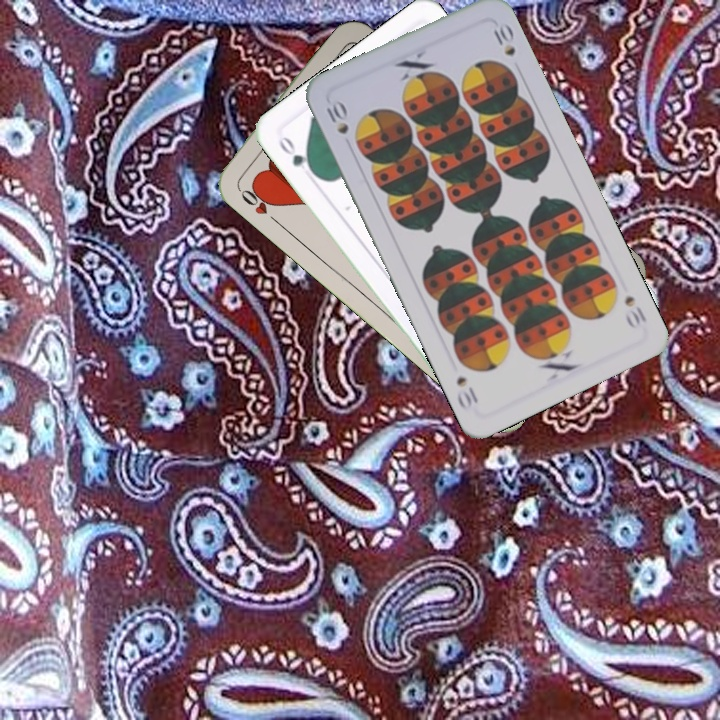GO: (274, 132, 319, 179)
HO: (233, 180, 281, 226)
S10: (620, 291, 650, 332), (322, 96, 351, 137)
